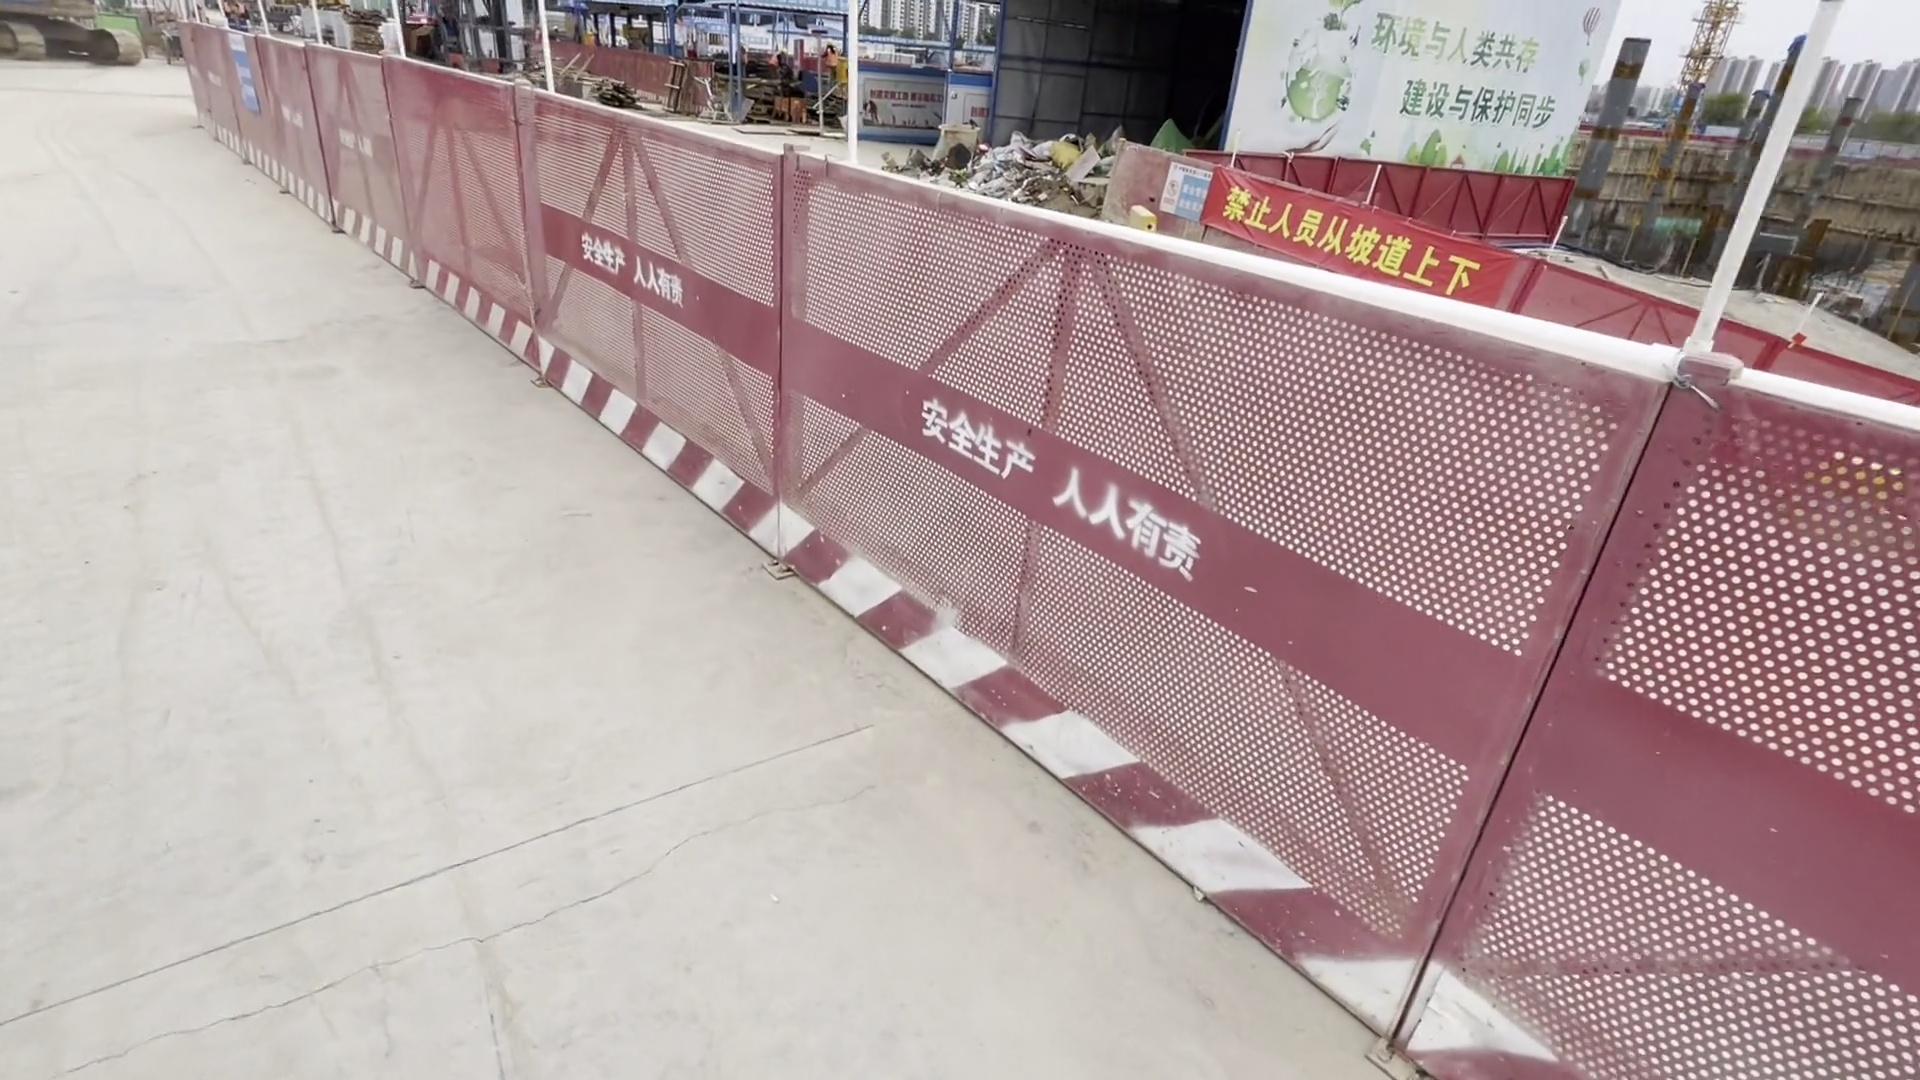fence: (179, 29, 1912, 1068)
slogan: (1275, 15, 1597, 170), (1192, 173, 1520, 301)
